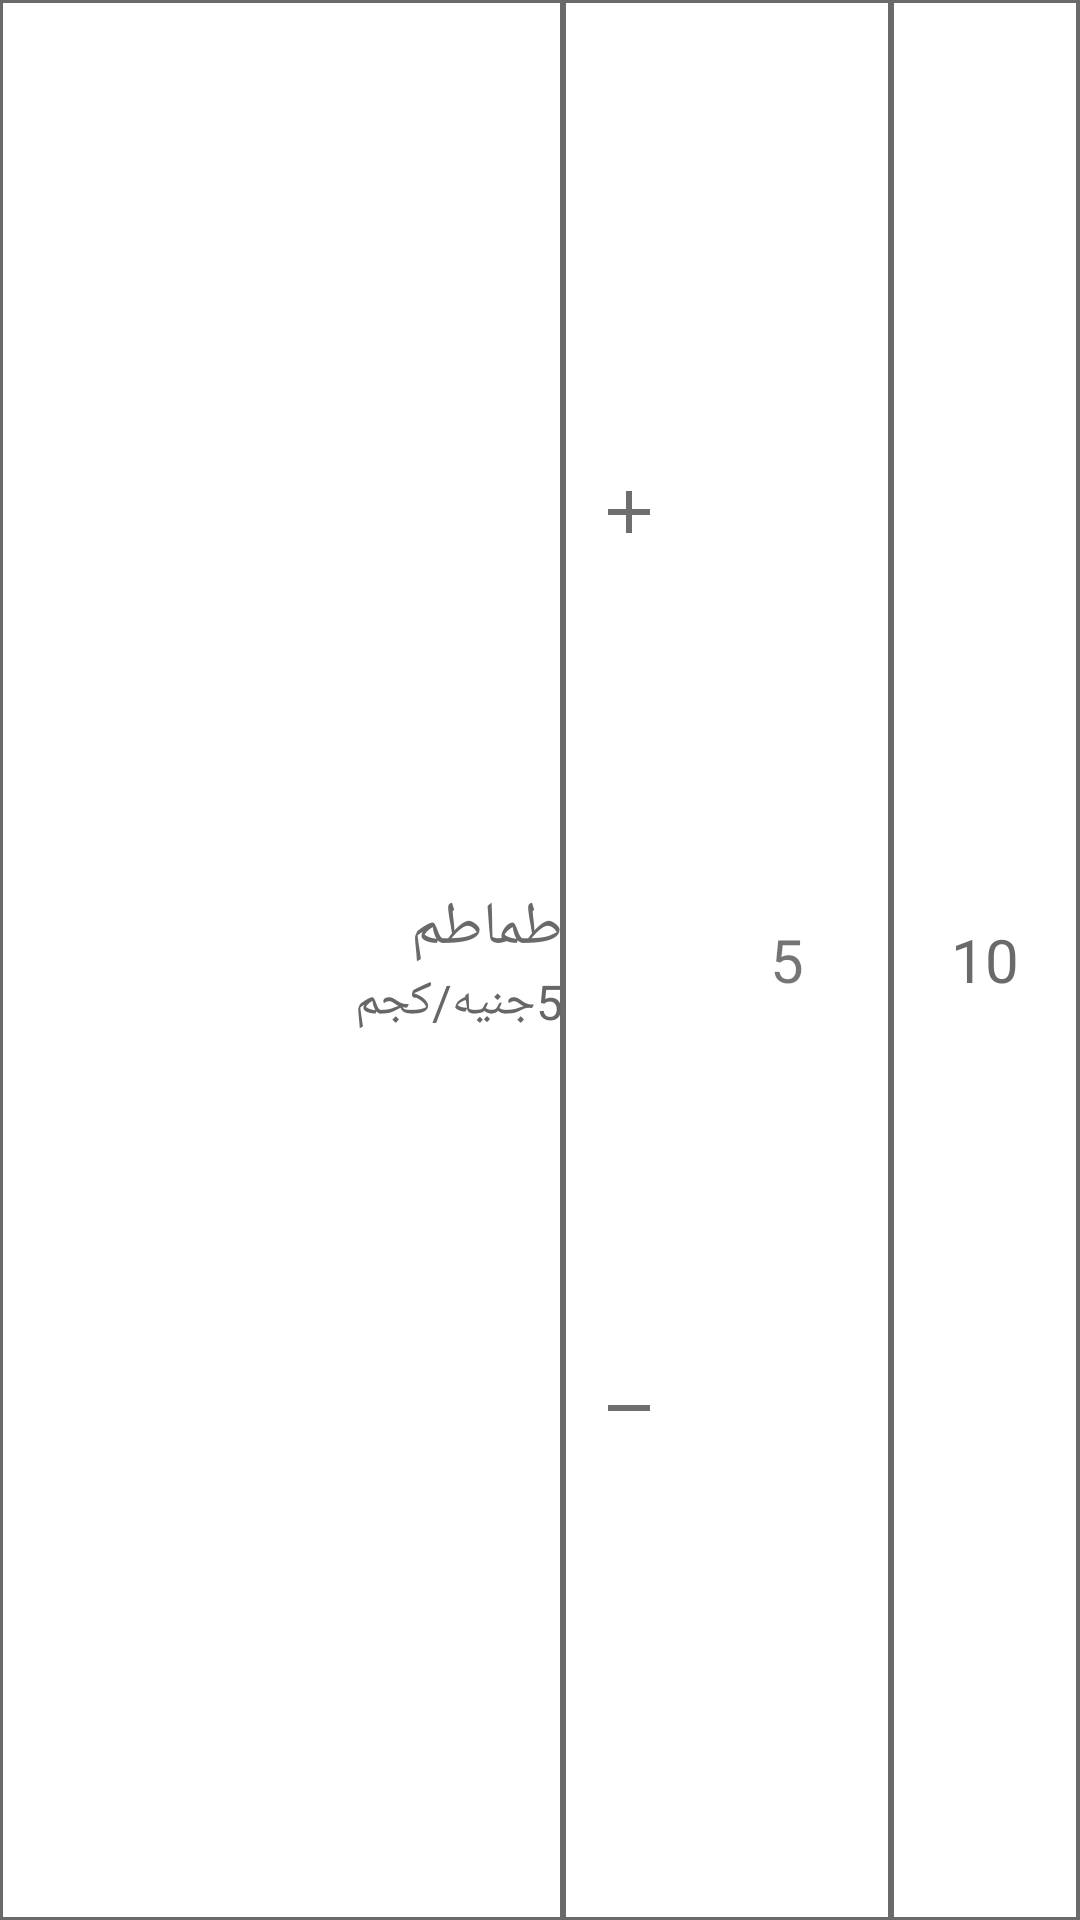

Named icons in this screenshot (1080 x 1920) and their centers, (x=x, y=y):
increment: (x=629, y=512)
